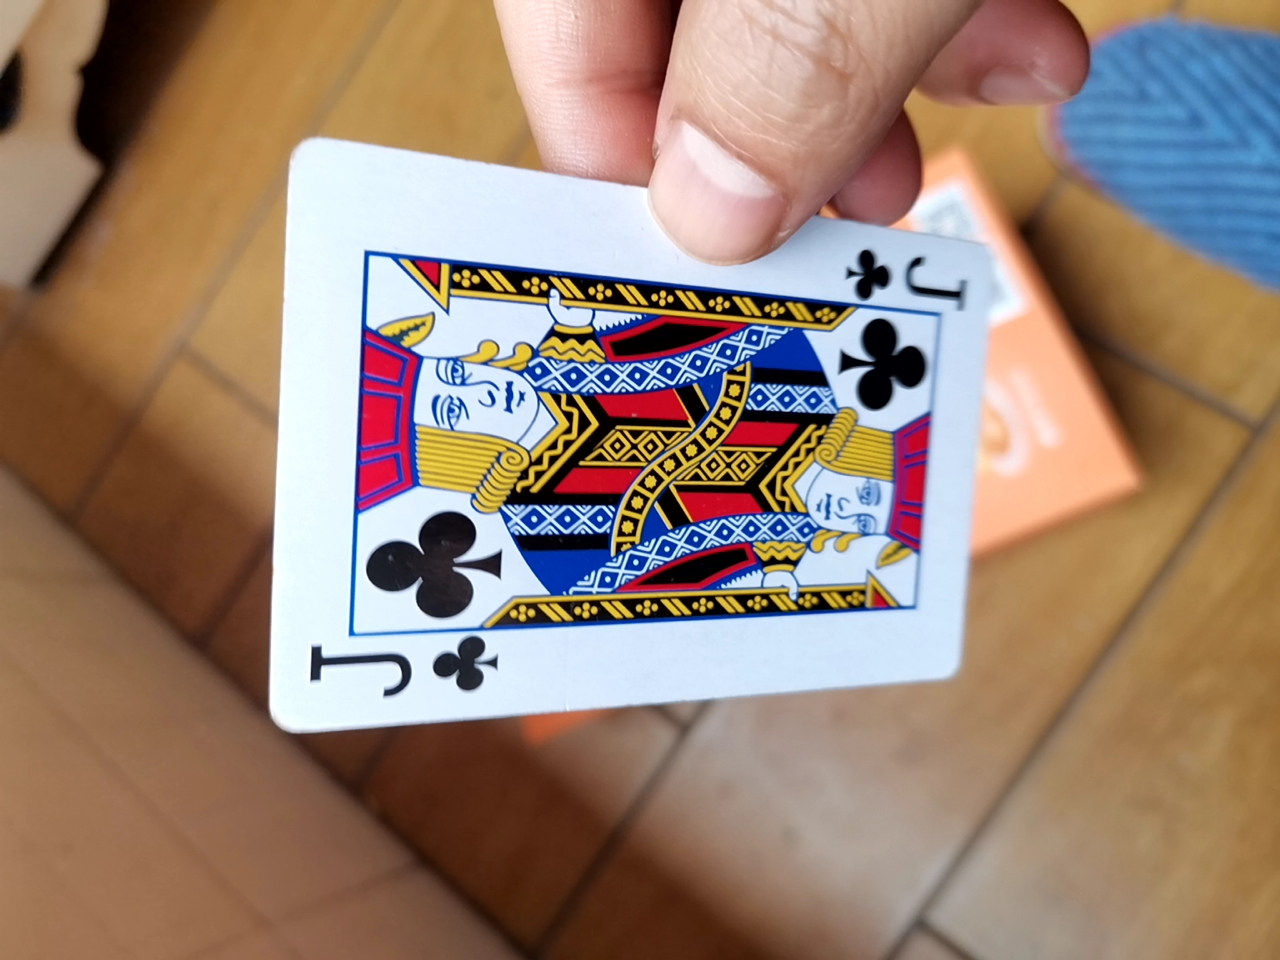mh j: (240, 142, 1004, 734)
